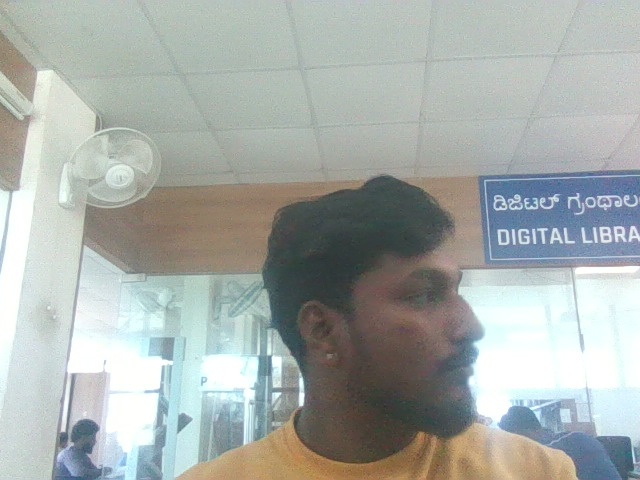real: (319, 171, 493, 417)
